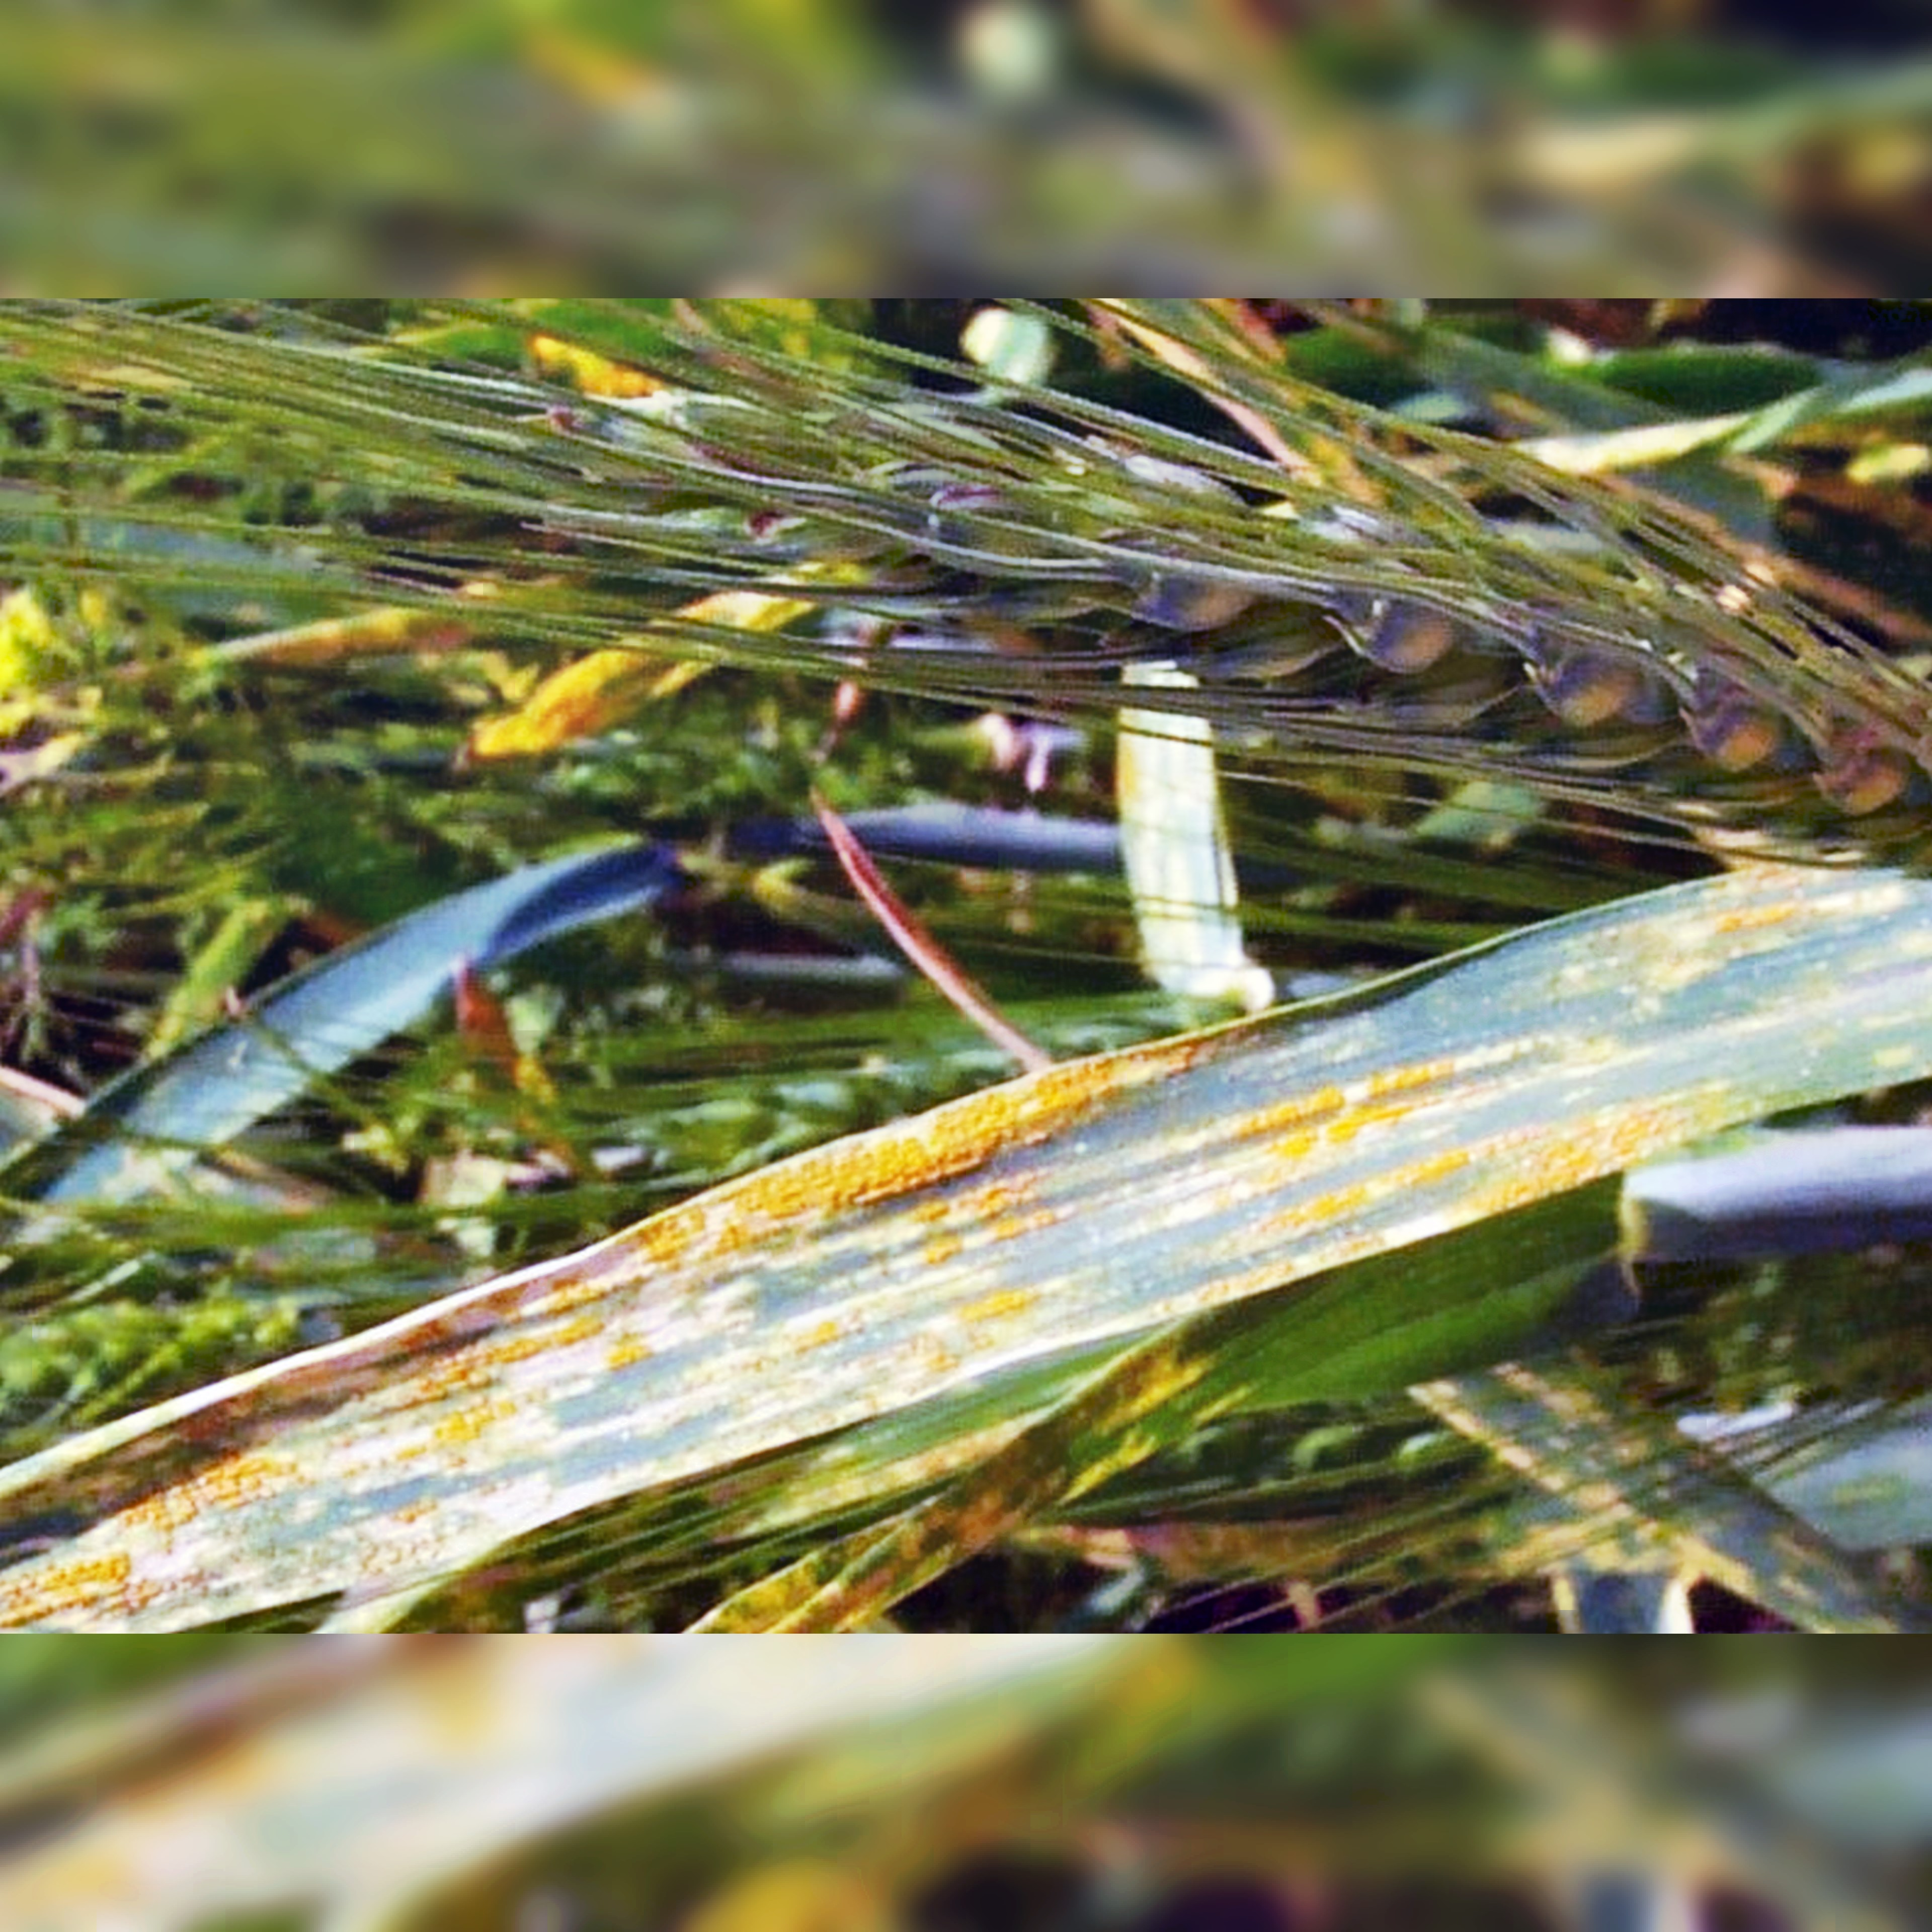Leaf Rust: (188, 945, 1615, 1550)
